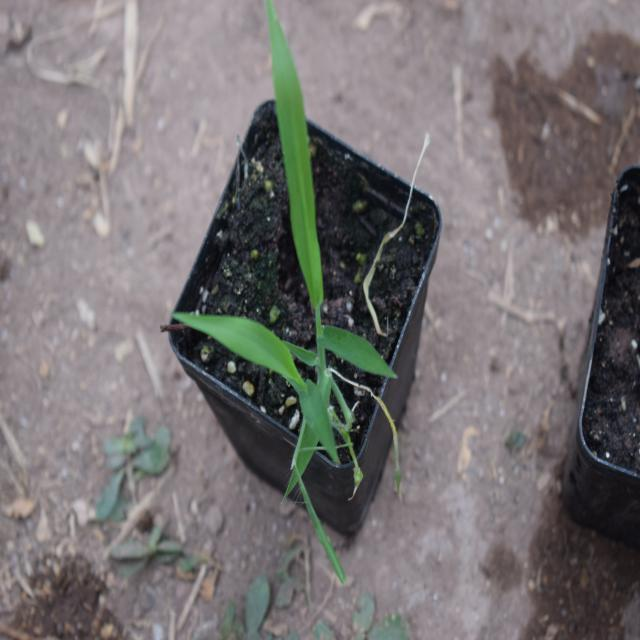crabgrass: (190, 25, 377, 463)
